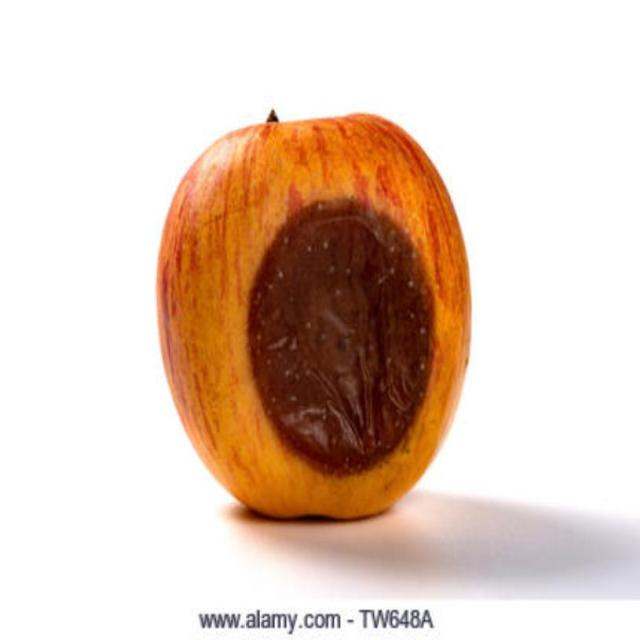Rotten Apple: (153, 99, 492, 552)
